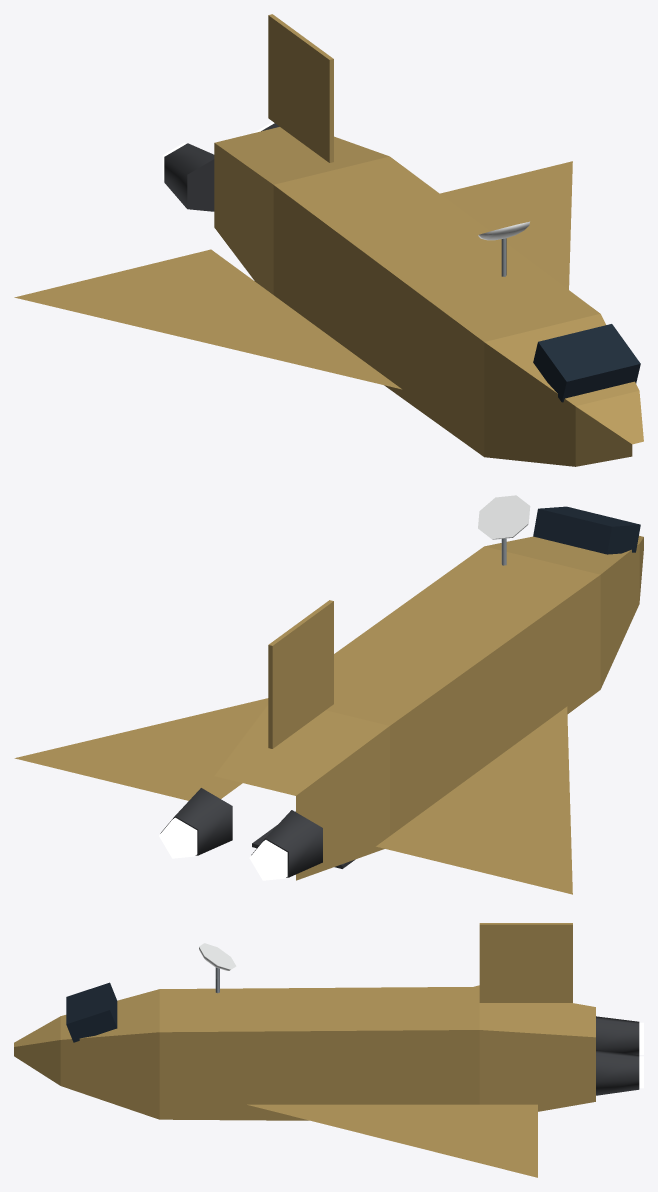
Rendered from space_ship_shuttle_mk7_lod1.glb.
The picture shows the model from 3 angles, top to bottom: view 1: azimuth 30°, elevation 25°; view 2: azimuth 150°, elevation 25°; view 3: azimuth 270°, elevation 25°; orthographic projection. The views are drawn at different scales.
Parts seen in each view (by area): view 1: body, engine_1, antenna_0; view 2: body, engine_0, engine_1, antenna_0; view 3: body, engine_0, engine_1, antenna_0.
Boxes of the visible parts, <box> form: body: <box>14,14,643,466</box>; engine_1: <box>162,142,214,211</box>; antenna_0: <box>478,221,529,276</box>; body: <box>14,506,643,894</box>; engine_0: <box>159,788,232,858</box>; engine_1: <box>249,810,322,880</box>; antenna_0: <box>478,495,530,565</box>; body: <box>14,923,595,1177</box>; engine_0: <box>596,1050,643,1095</box>; engine_1: <box>596,1016,643,1055</box>; antenna_0: <box>199,943,236,993</box>.
Bounding box in the file's own units: 13.04 × 5.18 × 16.75.
